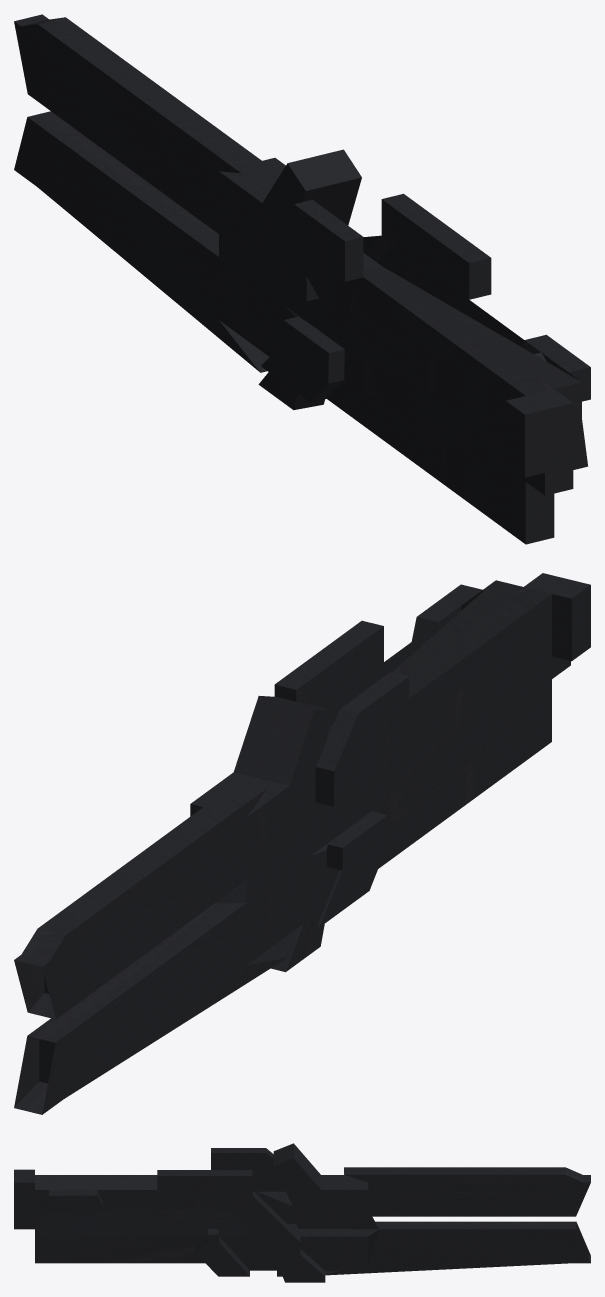
File: RailGun.gltf
The picture shows the model from 3 angles, top to bottom: view 1: azimuth 30°, elevation 25°; view 2: azimuth 150°, elevation 25°; view 3: azimuth 270°, elevation 25°; orthographic projection. The views are drawn at different scales.
Parts seen in each view (by area): view 1: Gun; view 2: Gun; view 3: Gun.
Part boxes in pixels (bbox=[...]): Gun: bbox=[14, 14, 590, 544]; Gun: bbox=[14, 573, 590, 1114]; Gun: bbox=[14, 1143, 590, 1282].
Bounding box in the file's own units: 1.73 × 4.08 × 16.19.
1 material, 1 textured.
